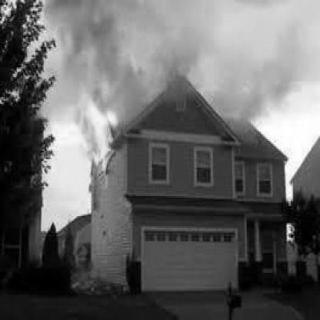Fire: (58, 26, 140, 164)
Smoke: (230, 42, 288, 120), (144, 25, 194, 88), (55, 3, 117, 34)
